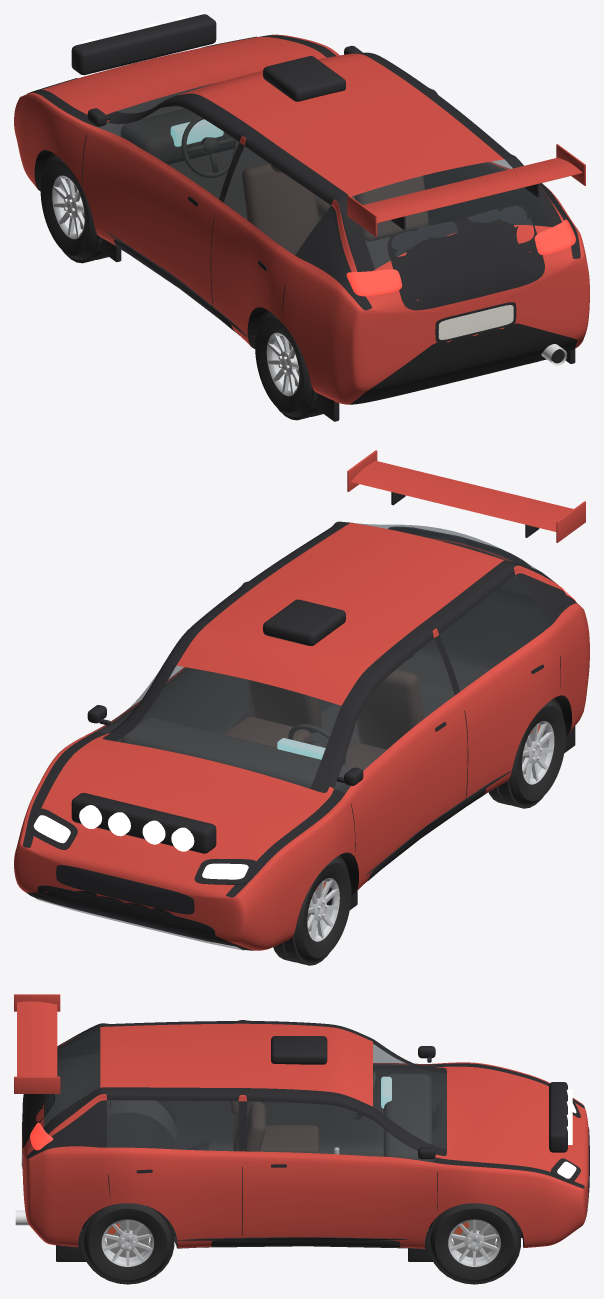
File: RallyxTerra.glb
3 renders of one model, top to bottom at view 1: azimuth 30°, elevation 25°; view 2: azimuth 150°, elevation 25°; view 3: azimuth 270°, elevation 25°, orthographic. The views are drawn at different scales.
Parts seen in each view (by area): view 1: RallyxTerra_Body, RallyxTerra_Glass, RallyxTerra_Interior, RallyxTerra_Wheel_RL, RallyxTerra_Wheel_FL, RallyxTerra_Lights_Tail, RallyxTerra_Steering; view 2: RallyxTerra_Body, RallyxTerra_Glass, RallyxTerra_Interior, RallyxTerra_Wheel_FL, RallyxTerra_Wheel_RL, RallyxTerra_Lights_Head; view 3: RallyxTerra_Body, RallyxTerra_Glass, RallyxTerra_Interior, RallyxTerra_Wheel_RR, RallyxTerra_Wheel_FR, RallyxTerra_Lights_Tail.
Boxes of the visible parts, x1,y1,x2,y2 form: RallyxTerra_Body: (14,14,589,421); RallyxTerra_Glass: (96,83,549,268); RallyxTerra_Interior: (96,82,549,335); RallyxTerra_Wheel_RL: (255,310,322,420); RallyxTerra_Wheel_FL: (40,153,108,263); RallyxTerra_Lights_Tail: (346,219,575,296); RallyxTerra_Steering: (181,116,239,177); RallyxTerra_Body: (14,450,589,950); RallyxTerra_Glass: (96,523,550,792); RallyxTerra_Interior: (97,541,551,792); RallyxTerra_Wheel_FL: (273,855,351,965); RallyxTerra_Wheel_RL: (488,698,565,808); RallyxTerra_Lights_Head: (33,815,248,879); RallyxTerra_Body: (14,994,589,1261); RallyxTerra_Glass: (44,1027,446,1162); RallyxTerra_Interior: (44,1027,523,1245); RallyxTerra_Wheel_RR: (81,1203,174,1284); RallyxTerra_Wheel_FR: (428,1203,521,1284); RallyxTerra_Lights_Tail: (30,1122,53,1150).
Bounding box in the file's own units: 1.95 × 1.64 × 4.29.
